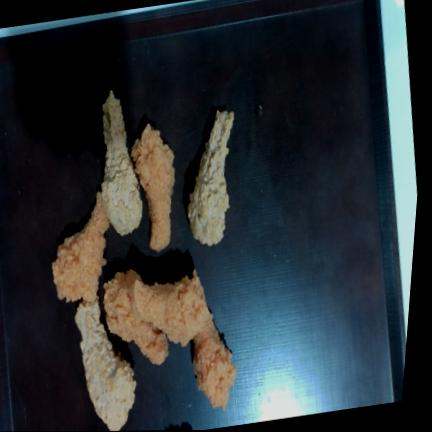chicken: (75, 298, 136, 430), (52, 192, 110, 301), (188, 110, 234, 245), (104, 269, 168, 364), (101, 90, 142, 235), (131, 270, 210, 345), (131, 123, 175, 250), (193, 314, 236, 408)
